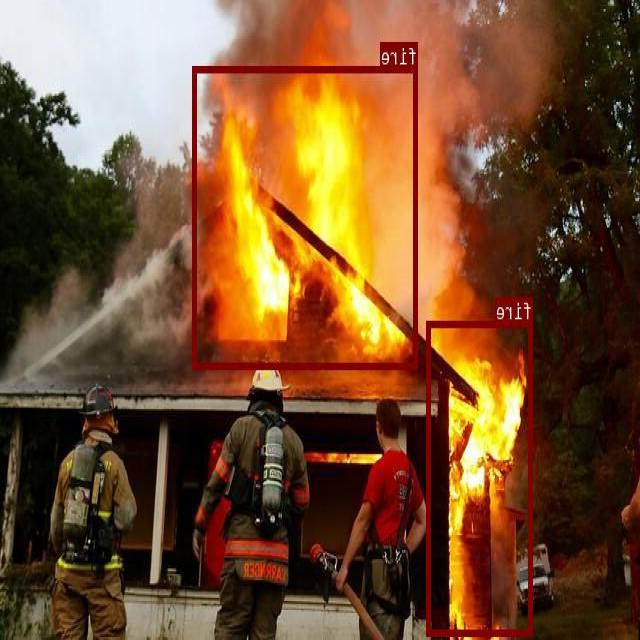fire: (194, 65, 418, 368), (428, 320, 534, 636)
